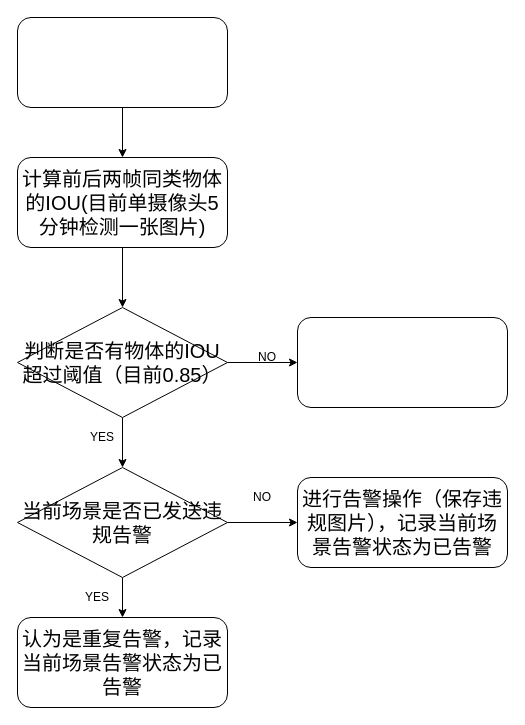
This 525x725 diagram has some shape labels left out. The centre of each missing label's shape, as x and y in pixels:
"算法输出当前图片中检测到的违规物体（输出位置信息和物理类别）" belongs at point (122, 62).
"记录当前场景告警状态为未告警" belongs at point (402, 362).
